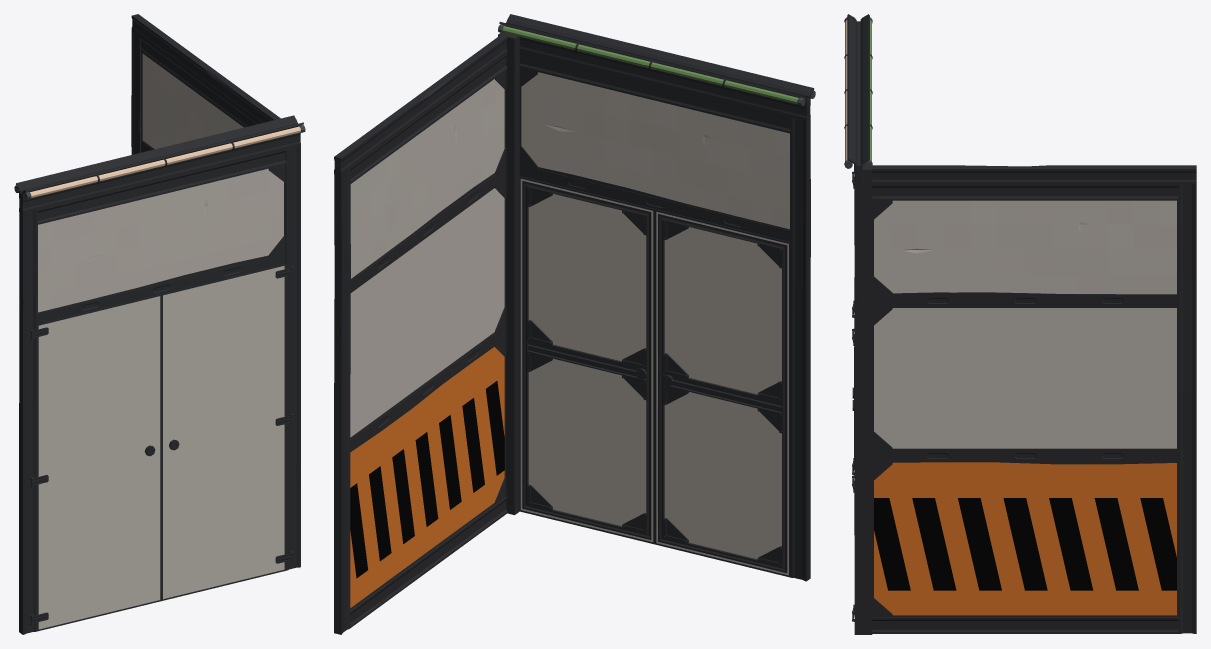
Rendered from SM_Wall_Angle_Door_01.gltf.
3 renders of one model, left to right at view 1: azimuth 30°, elevation 25°; view 2: azimuth 150°, elevation 25°; view 3: azimuth 270°, elevation 25°, orthographic. The views are drawn at different scales.
Visible parts, largest first — view 1: SM_Wall_Angle_Door_01, SM_Door_Angle_Right_For_Wall_Door_01, SM_Door_Angle_Left_For_Wall_Door_01; view 2: SM_Wall_Angle_Door_01, SM_Door_Angle_Left_For_Wall_Door_01, SM_Door_Angle_Right_For_Wall_Door_01; view 3: SM_Wall_Angle_Door_01.
Boxes of the visible parts, x1,y1,x2,y2 form: SM_Wall_Angle_Door_01: (14,14,305,634); SM_Door_Angle_Right_For_Wall_Door_01: (161,264,293,600); SM_Door_Angle_Left_For_Wall_Door_01: (31,294,161,631); SM_Wall_Angle_Door_01: (334,14,815,634); SM_Door_Angle_Left_For_Wall_Door_01: (653,209,790,577); SM_Door_Angle_Right_For_Wall_Door_01: (519,176,654,544); SM_Wall_Angle_Door_01: (844,14,1196,634).
Bounding box in the file's own units: 2 × 3.07 × 2.06.
